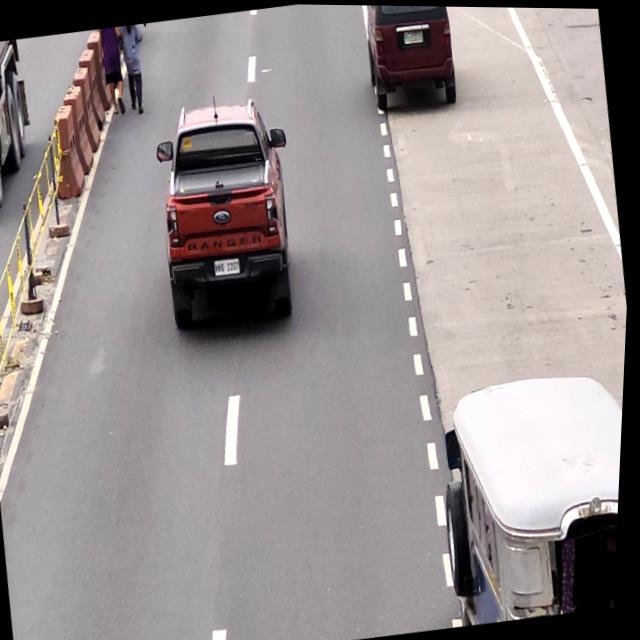Car: (146, 94, 307, 331), (356, 4, 457, 109)
Jeep: (431, 359, 628, 626)
License-Plate: (215, 254, 243, 275), (402, 26, 427, 47)
